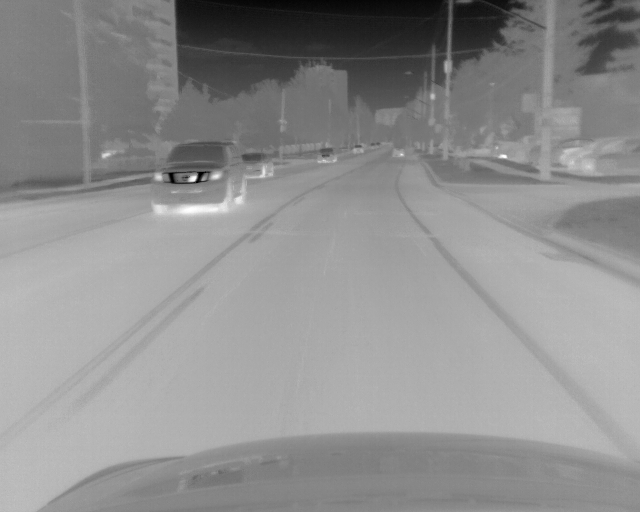car: (151, 140, 248, 213), (559, 139, 619, 178), (585, 137, 640, 174), (535, 138, 589, 167), (238, 153, 274, 180), (315, 147, 337, 164), (391, 146, 404, 157), (352, 144, 365, 154), (369, 142, 381, 151)
